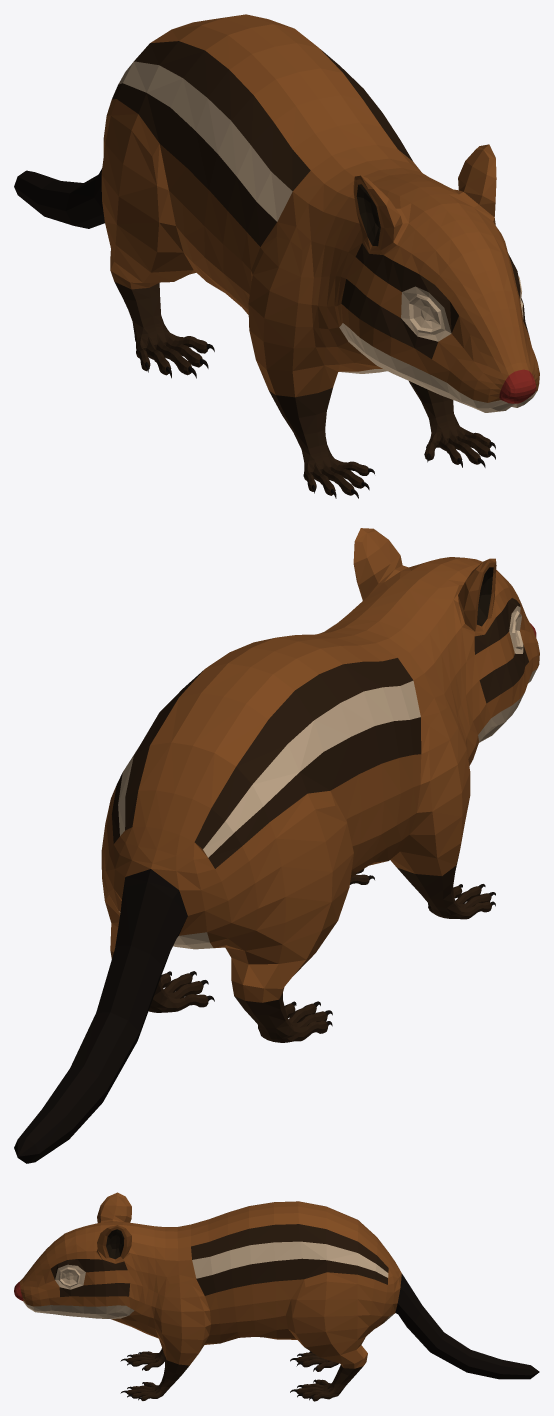
Rendered from chipmunk_chipmunk.obj.
The picture shows the model from 3 angles, top to bottom: view 1: azimuth 30°, elevation 25°; view 2: azimuth 150°, elevation 25°; view 3: azimuth 270°, elevation 25°; orthographic projection. The views are drawn at different scales.
Bounding box in the file's own units: 0.0528 × 0.0781 × 0.2158.
